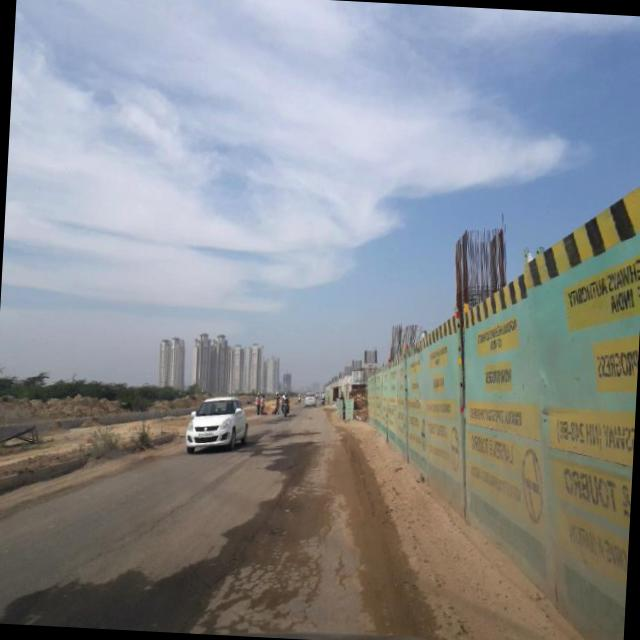crack: (187, 461, 359, 640), (184, 445, 306, 634), (123, 458, 240, 554)
